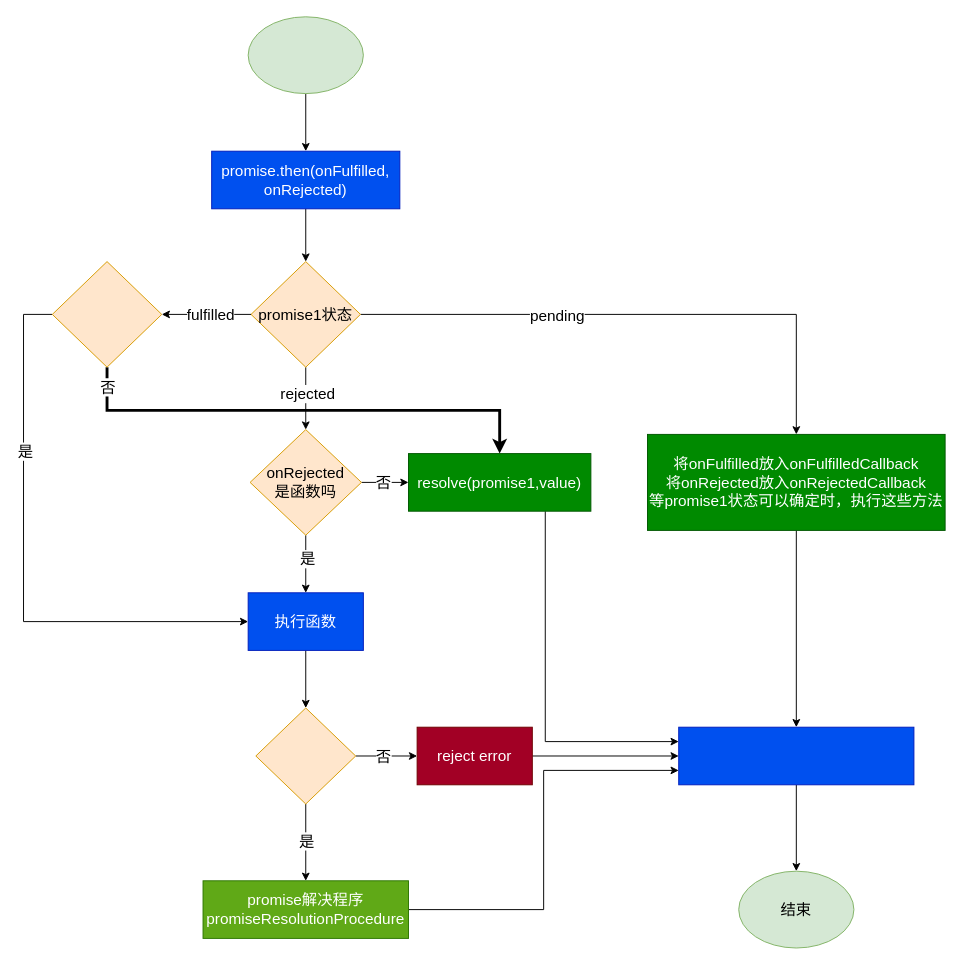
This 962x965 diagram has some shape labels left out. The centre of each missing label's shape, as x and y in pixels:
"onFulfilled 是函数吗" goes at point (106, 314).
"return promise2=new Promise" goes at point (796, 755).
"开始" goes at point (305, 55).
"执行成功？" goes at point (305, 755).
